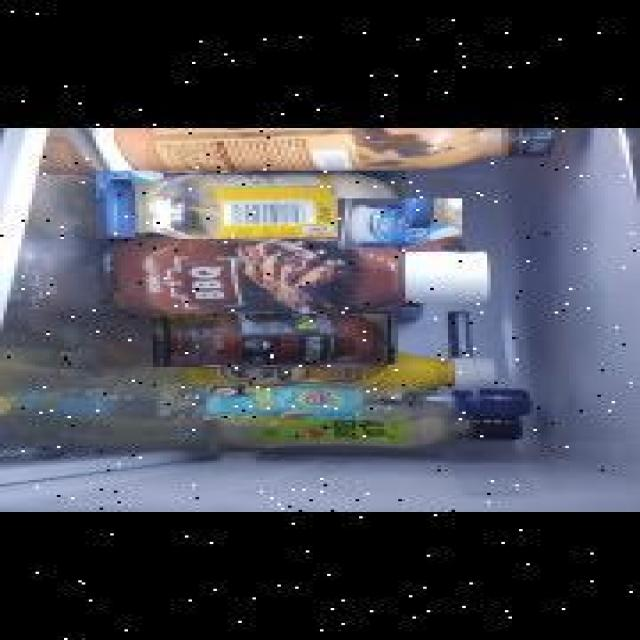banana: (0, 348, 75, 484)
mayonaise: (92, 171, 402, 239)
tomato_sauce: (148, 314, 382, 367)
yogurt: (334, 200, 459, 250)
